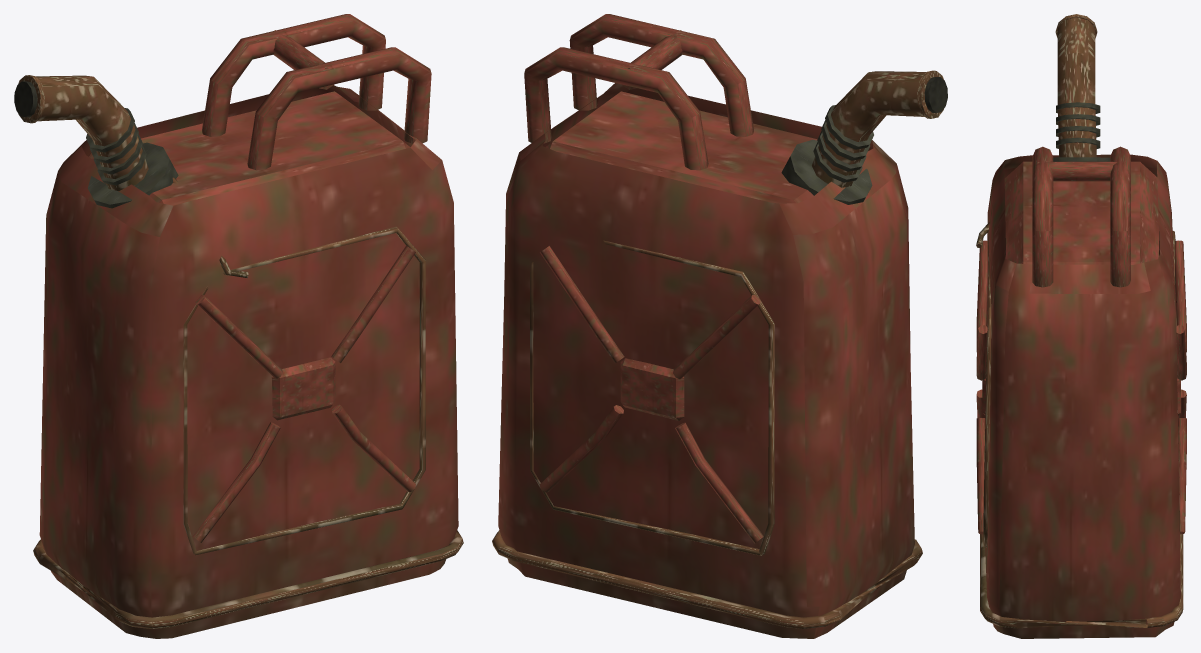
The model's file is nb_fuel_can.glb.
3 views of the same model, side by side, from view 1: azimuth 30°, elevation 25°; view 2: azimuth 150°, elevation 25°; view 3: azimuth 270°, elevation 25° (orthographic). The views are drawn at different scales.
Parts seen in each view (by area): view 1: Abandoned_Oxidized_Red_Fuel_Can_Body; view 2: Abandoned_Oxidized_Red_Fuel_Can_Body; view 3: Abandoned_Oxidized_Red_Fuel_Can_Body.
Boxes of the visible parts, x1,y1,x2,y2 form: Abandoned_Oxidized_Red_Fuel_Can_Body: (14,14,463,638); Abandoned_Oxidized_Red_Fuel_Can_Body: (492,14,947,638); Abandoned_Oxidized_Red_Fuel_Can_Body: (976,14,1186,638).
Size of the model in its own units: 0.4594 by 0.5974 by 0.2441.
Materials: 1 (1 with a texture image).
